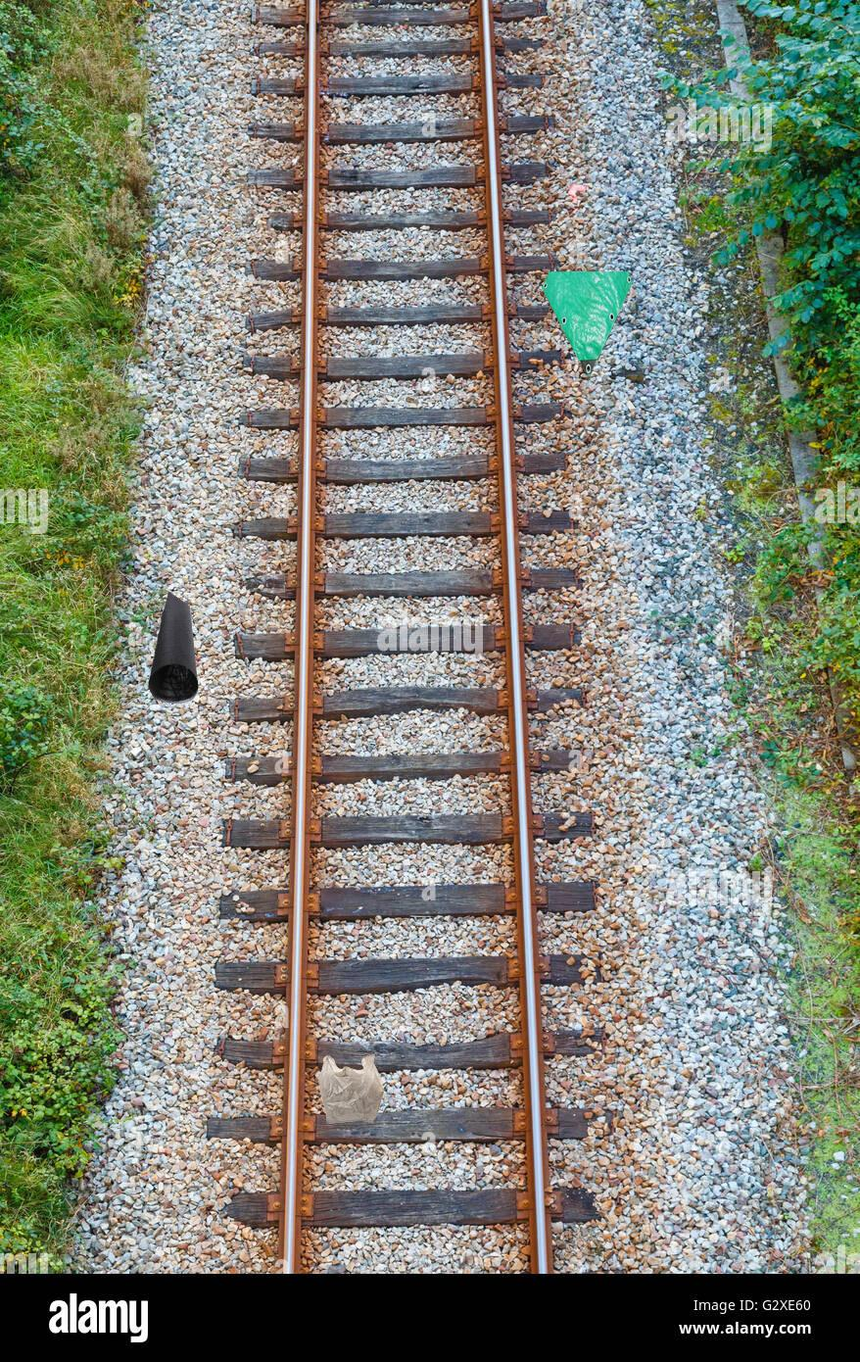Dust_screen: (517, 247, 639, 372)
Plastic: (306, 1053, 394, 1139)
